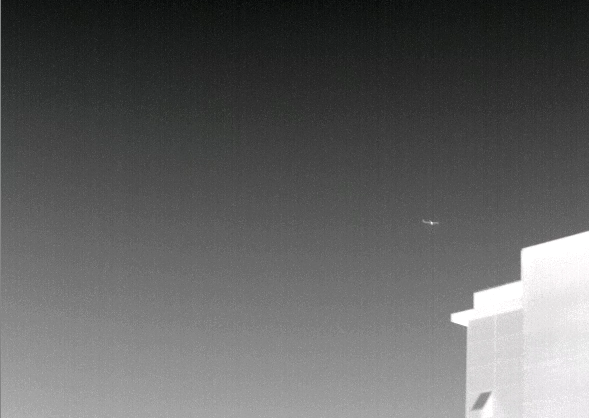dim target: (421, 218, 439, 227)
